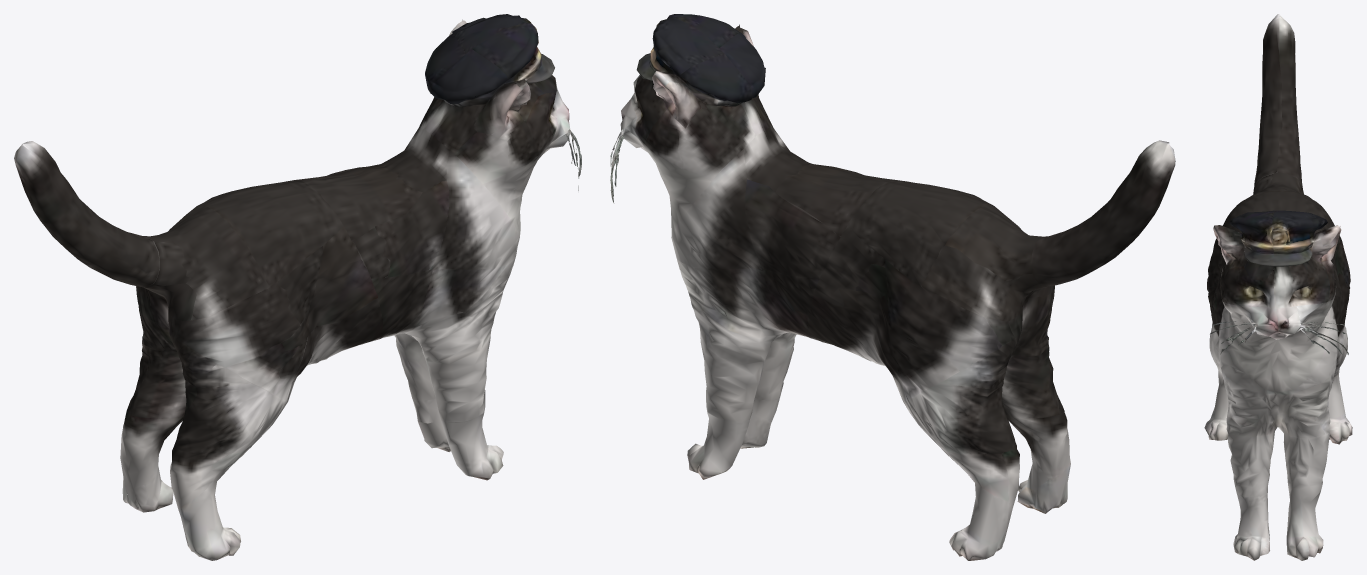
File: YONTAMACAT-lo.glb
3 renders of one model, left to right at view 1: azimuth 30°, elevation 25°; view 2: azimuth 150°, elevation 25°; view 3: azimuth 270°, elevation 25°, orthographic. The views are drawn at different scales.
Parts seen in each view (by area): view 1: tripo_node_832813d1-4978-46f8-9f68-ecfb71ab4b23; view 2: tripo_node_832813d1-4978-46f8-9f68-ecfb71ab4b23; view 3: tripo_node_832813d1-4978-46f8-9f68-ecfb71ab4b23.
Part boxes in pixels (x1,y1,x2,y2): tripo_node_832813d1-4978-46f8-9f68-ecfb71ab4b23: (14, 14, 581, 560); tripo_node_832813d1-4978-46f8-9f68-ecfb71ab4b23: (610, 14, 1175, 560); tripo_node_832813d1-4978-46f8-9f68-ecfb71ab4b23: (1204, 14, 1352, 560).
Bounding box in the file's own units: 1.34 × 0.998 × 0.3714.
Materials: 1 (1 with a texture image).
